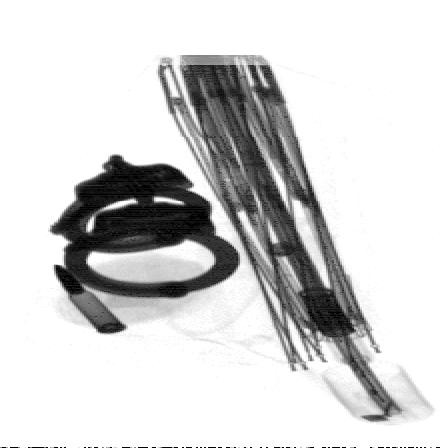Bullet: (54, 262, 126, 333)
HandCuffs: (50, 153, 243, 301)
